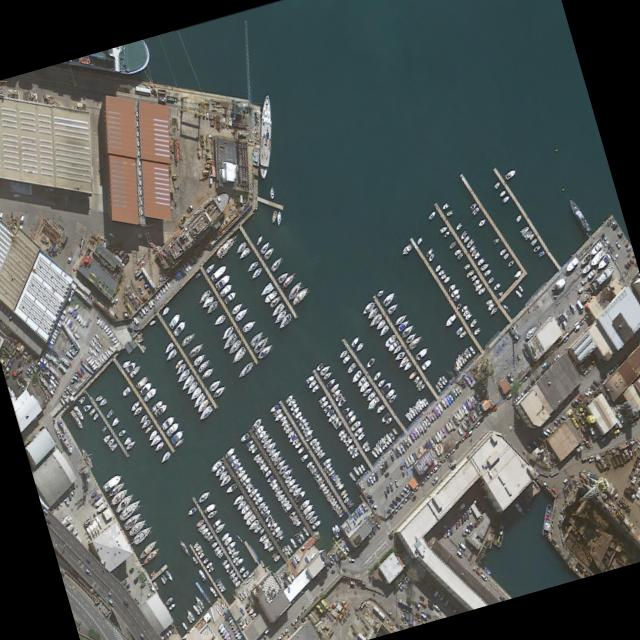large-vehicle: (396, 596, 411, 608), (409, 596, 419, 607), (65, 249, 72, 263), (184, 202, 193, 212), (447, 457, 456, 467), (456, 500, 464, 511), (417, 597, 425, 607)
ship: (149, 182, 236, 276), (256, 88, 274, 183), (565, 192, 593, 238), (586, 261, 615, 293), (212, 230, 238, 261), (126, 520, 153, 548), (115, 494, 141, 523), (110, 488, 135, 516), (119, 507, 142, 533), (135, 535, 158, 561), (98, 469, 122, 493), (138, 544, 161, 568), (106, 483, 128, 508), (102, 477, 125, 500), (218, 327, 238, 353), (289, 282, 309, 308), (125, 514, 146, 538), (235, 357, 255, 380), (185, 337, 205, 360), (254, 338, 274, 361), (207, 259, 227, 282), (66, 406, 83, 432), (177, 326, 196, 349), (228, 342, 246, 366), (539, 500, 551, 536), (587, 246, 606, 268), (250, 332, 269, 354), (278, 267, 296, 290), (548, 274, 566, 296), (364, 309, 382, 331), (378, 287, 396, 309), (169, 315, 186, 338), (285, 277, 302, 300), (177, 371, 194, 394), (78, 444, 93, 470), (212, 269, 230, 290), (225, 335, 242, 357), (275, 311, 292, 333), (246, 325, 263, 347), (238, 314, 256, 334), (195, 402, 213, 422), (594, 250, 611, 271), (163, 417, 180, 438), (562, 253, 579, 273), (256, 278, 273, 298), (136, 376, 153, 396), (158, 410, 175, 430), (167, 425, 184, 445), (231, 303, 248, 323), (209, 309, 226, 329), (271, 306, 288, 326), (217, 321, 233, 342), (203, 296, 219, 317), (267, 251, 283, 272), (198, 291, 214, 312), (174, 364, 189, 386), (243, 255, 259, 275), (247, 262, 263, 282), (207, 455, 223, 475), (194, 354, 210, 374), (195, 285, 211, 305), (210, 380, 226, 400), (57, 431, 72, 452), (140, 384, 157, 402), (151, 399, 168, 417), (227, 297, 244, 315), (412, 342, 428, 361), (406, 331, 422, 350), (364, 393, 380, 412), (358, 298, 374, 317), (198, 362, 214, 381), (217, 278, 233, 297), (206, 375, 222, 394), (232, 236, 247, 256), (261, 286, 276, 306), (190, 389, 205, 409), (398, 320, 414, 338), (221, 286, 237, 304), (522, 322, 537, 341), (236, 243, 251, 262), (269, 299, 284, 318), (442, 309, 457, 328), (260, 242, 275, 261), (193, 395, 208, 414), (70, 402, 84, 422), (166, 309, 180, 329), (187, 383, 201, 403), (246, 541, 259, 562), (195, 487, 211, 504), (587, 239, 602, 257), (362, 303, 377, 321), (126, 361, 141, 379), (133, 371, 148, 389), (190, 349, 205, 367), (162, 345, 177, 363), (192, 592, 206, 611), (266, 291, 280, 310), (183, 378, 197, 397), (177, 537, 190, 557), (381, 331, 396, 348), (391, 310, 406, 327), (229, 489, 243, 507), (348, 366, 362, 384), (398, 239, 412, 257), (378, 377, 392, 395), (147, 431, 160, 450), (200, 500, 216, 515), (217, 471, 231, 488), (250, 230, 264, 247), (256, 237, 270, 254), (275, 266, 289, 283), (172, 360, 186, 377), (249, 414, 262, 432), (501, 166, 516, 181), (402, 329, 417, 344), (242, 511, 256, 527), (212, 519, 226, 535), (292, 487, 306, 503), (221, 444, 235, 460), (246, 516, 260, 532), (395, 316, 409, 332), (384, 299, 398, 315), (276, 460, 289, 477), (356, 378, 369, 395), (376, 321, 389, 338), (395, 352, 408, 369), (347, 333, 360, 350), (158, 447, 171, 464), (239, 506, 253, 521), (148, 397, 162, 412), (233, 496, 246, 512), (300, 500, 313, 516), (341, 405, 354, 421), (317, 360, 330, 376), (348, 416, 361, 432), (334, 345, 347, 361), (385, 337, 398, 353), (122, 357, 135, 373), (171, 434, 184, 450), (212, 462, 225, 478), (203, 258, 216, 274), (195, 566, 207, 583), (373, 315, 385, 332), (223, 481, 237, 495), (297, 496, 310, 511), (263, 439, 276, 454), (260, 434, 273, 449), (267, 447, 280, 462), (279, 465, 292, 480), (327, 378, 340, 393), (324, 409, 337, 424), (215, 466, 228, 481), (382, 385, 395, 400), (578, 251, 590, 267), (344, 359, 356, 375), (392, 347, 404, 363), (386, 389, 398, 405), (119, 382, 131, 398), (152, 438, 164, 454), (161, 339, 173, 355), (328, 523, 339, 540), (204, 507, 218, 520), (237, 501, 250, 515), (289, 483, 302, 497), (447, 285, 460, 299), (123, 437, 136, 451), (252, 421, 264, 436), (255, 426, 267, 441), (273, 456, 285, 471), (309, 516, 321, 531), (323, 374, 335, 389), (345, 411, 357, 426), (351, 422, 363, 437), (370, 368, 382, 383), (130, 403, 142, 418), (141, 421, 153, 436), (171, 355, 183, 370), (46, 363, 58, 378), (556, 311, 567, 327), (354, 372, 365, 388), (364, 353, 375, 369), (55, 414, 65, 431), (209, 515, 221, 529), (303, 507, 315, 521), (306, 512, 318, 526), (517, 223, 529, 237), (302, 371, 314, 385), (363, 388, 375, 402), (419, 356, 431, 370), (389, 342, 401, 356), (372, 401, 384, 415), (281, 390, 293, 404), (258, 430, 269, 445), (378, 409, 389, 424), (353, 338, 364, 353), (158, 302, 169, 317), (145, 426, 156, 441), (286, 534, 296, 550), (270, 453, 282, 466), (284, 475, 296, 488), (471, 280, 483, 293), (320, 368, 332, 381), (358, 436, 370, 449), (360, 384, 372, 397), (373, 285, 385, 298), (184, 503, 196, 516), (288, 403, 300, 416), (252, 492, 263, 506), (233, 554, 244, 568), (225, 538, 236, 552), (219, 529, 230, 543), (251, 521, 262, 535), (247, 484, 258, 498), (228, 454, 239, 468), (584, 266, 595, 280), (579, 261, 590, 275), (335, 393, 346, 407), (305, 376, 316, 390), (309, 380, 320, 394), (318, 396, 329, 410), (331, 417, 342, 431), (401, 359, 412, 373), (119, 354, 130, 368), (128, 397, 139, 411), (295, 414, 306, 428), (163, 567, 173, 582), (185, 607, 195, 622), (573, 297, 583, 312), (190, 602, 200, 617), (340, 350, 350, 365), (109, 413, 119, 428), (104, 405, 114, 420), (477, 261, 489, 273), (320, 401, 332, 413), (269, 207, 277, 225), (301, 426, 313, 438), (269, 406, 281, 418), (264, 515, 275, 528), (272, 527, 283, 540), (269, 523, 280, 536), (255, 498, 266, 511), (238, 430, 249, 443), (281, 501, 292, 514), (240, 474, 251, 487), (229, 546, 240, 559), (222, 534, 233, 547), (256, 530, 267, 543), (261, 538, 272, 551), (287, 480, 298, 493), (484, 299, 495, 312), (520, 228, 531, 241), (511, 267, 522, 280), (313, 359, 324, 372), (330, 384, 341, 397), (332, 389, 343, 402), (354, 429, 365, 442), (315, 392, 326, 405), (323, 405, 334, 418), (136, 411, 147, 424), (95, 501, 106, 514), (272, 410, 283, 423), (59, 354, 70, 367), (44, 368, 55, 381), (297, 418, 308, 431), (291, 407, 302, 420), (292, 531, 302, 545), (238, 469, 248, 483), (207, 584, 217, 598), (463, 236, 473, 250), (372, 440, 382, 454), (499, 300, 509, 314), (375, 375, 385, 389), (455, 351, 465, 365), (300, 523, 309, 538), (260, 507, 271, 519), (232, 463, 243, 475), (234, 466, 245, 478), (230, 459, 241, 471), (265, 445, 276, 457), (281, 472, 292, 484), (474, 255, 485, 267), (475, 284, 486, 296), (346, 443, 357, 455), (382, 414, 393, 426), (121, 434, 132, 446), (96, 395, 107, 407), (267, 402, 279, 413), (297, 451, 308, 463), (288, 435, 299, 447), (320, 460, 331, 472), (250, 489, 260, 502), (236, 561, 246, 574), (453, 323, 463, 336), (423, 246, 433, 259), (382, 430, 392, 443), (426, 208, 436, 221), (329, 413, 339, 426), (406, 367, 416, 380), (86, 405, 96, 418), (139, 417, 149, 430), (579, 290, 589, 303), (412, 399, 422, 412), (466, 343, 476, 356), (284, 541, 293, 555), (296, 528, 305, 542), (346, 469, 355, 483), (406, 404, 415, 418), (462, 344, 471, 358), (426, 435, 435, 449), (462, 372, 471, 386), (272, 487, 283, 498), (464, 267, 475, 278), (458, 302, 469, 313), (475, 216, 486, 227), (499, 193, 510, 204), (107, 440, 118, 451), (195, 521, 206, 532), (193, 516, 204, 527), (320, 455, 331, 466), (286, 508, 296, 520), (258, 503, 268, 515), (275, 490, 285, 502), (279, 498, 289, 510), (230, 552, 240, 564), (226, 451, 236, 463), (163, 594, 173, 606), (445, 281, 455, 293), (481, 266, 491, 278), (446, 238, 456, 250), (496, 245, 506, 257), (469, 204, 479, 216), (339, 402, 349, 414), (342, 436, 352, 448), (335, 425, 345, 437), (337, 429, 347, 441), (410, 372, 420, 384), (100, 431, 110, 443), (318, 482, 328, 494), (316, 479, 326, 491), (286, 431, 296, 443), (287, 400, 297, 412), (293, 412, 303, 424), (245, 481, 254, 494), (471, 248, 480, 261), (351, 464, 360, 477), (467, 316, 476, 329), (193, 600, 202, 613), (378, 435, 387, 448), (380, 432, 389, 445), (415, 396, 424, 409), (331, 521, 340, 534), (454, 355, 463, 368), (396, 440, 405, 453), (438, 396, 447, 409), (432, 403, 441, 416), (430, 405, 439, 418), (447, 416, 456, 429), (458, 227, 466, 241), (376, 437, 384, 451), (460, 402, 468, 416), (275, 532, 285, 543), (262, 467, 272, 478), (265, 543, 275, 554), (271, 552, 281, 563), (482, 296, 492, 307), (466, 199, 476, 210), (344, 440, 354, 451), (415, 381, 425, 392), (115, 426, 125, 437), (93, 496, 103, 507), (198, 525, 208, 536), (307, 435, 317, 446), (309, 439, 319, 450), (303, 431, 313, 442), (285, 396, 295, 407), (35, 359, 45, 370), (38, 356, 48, 367), (323, 464, 333, 475), (300, 422, 310, 433), (93, 514, 102, 526), (189, 553, 198, 565), (240, 566, 249, 578), (432, 261, 441, 273), (488, 304, 497, 316), (460, 306, 469, 318), (559, 308, 568, 320), (179, 619, 188, 631), (528, 235, 537, 247), (505, 256, 514, 268), (500, 249, 509, 261), (512, 287, 521, 299), (90, 410, 99, 422), (105, 436, 114, 448), (275, 209, 281, 227), (58, 390, 67, 402), (64, 383, 73, 395), (89, 522, 98, 534), (86, 524, 95, 536), (368, 447, 377, 459), (313, 445, 322, 457), (402, 410, 411, 422), (434, 377, 443, 389), (370, 444, 379, 456), (278, 416, 287, 428), (422, 415, 431, 427), (393, 444, 402, 456), (411, 424, 420, 436), (47, 376, 56, 388), (331, 474, 340, 486), (464, 369, 473, 381), (472, 389, 481, 401), (282, 543, 290, 556), (567, 299, 575, 312), (91, 518, 99, 531), (458, 350, 466, 363), (432, 380, 440, 393), (418, 418, 426, 431), (403, 432, 411, 445), (404, 454, 412, 467), (409, 449, 417, 462), (406, 451, 414, 464), (431, 431, 439, 444), (441, 394, 449, 407), (434, 429, 442, 442), (469, 392, 477, 405), (466, 395, 474, 408), (464, 397, 472, 410), (453, 409, 461, 422), (451, 411, 459, 424), (444, 418, 452, 431), (457, 329, 467, 339), (437, 271, 447, 281), (493, 289, 503, 299), (470, 276, 480, 286), (81, 402, 91, 412), (263, 512, 272, 523), (268, 520, 277, 531), (242, 479, 251, 490), (255, 456, 264, 467), (264, 472, 273, 483), (251, 451, 260, 462), (246, 441, 255, 452), (244, 437, 253, 448), (260, 463, 269, 474), (267, 476, 276, 487), (277, 494, 286, 505), (471, 325, 480, 336), (462, 310, 471, 321), (491, 280, 500, 291), (454, 250, 463, 261), (451, 291, 460, 302), (531, 243, 540, 254), (340, 432, 349, 443), (413, 377, 422, 388), (76, 394, 85, 405), (92, 393, 103, 402), (229, 573, 238, 584), (210, 542, 219, 553), (157, 574, 166, 585), (316, 449, 325, 460), (311, 442, 320, 453), (436, 375, 445, 386), (313, 473, 322, 484), (311, 470, 320, 481), (292, 439, 301, 450), (48, 353, 57, 364), (56, 361, 65, 372), (335, 480, 344, 491), (329, 471, 338, 482), (85, 525, 92, 539), (467, 242, 475, 254), (461, 232, 469, 244), (386, 429, 394, 441), (453, 220, 461, 232), (440, 200, 448, 212), (505, 370, 513, 382), (411, 402, 419, 414), (405, 408, 413, 420), (452, 358, 460, 370), (321, 485, 329, 497), (295, 443, 303, 455), (424, 411, 432, 423), (416, 421, 424, 433), (470, 409, 478, 421), (399, 438, 407, 450), (401, 436, 409, 448), (409, 427, 417, 439), (402, 457, 410, 469), (467, 411, 475, 423), (474, 404, 482, 416), (443, 392, 451, 404), (436, 427, 444, 439), (449, 385, 457, 397), (447, 387, 455, 399), (455, 407, 463, 419), (442, 421, 450, 433), (289, 512, 298, 522), (269, 481, 278, 491), (253, 453, 262, 463), (166, 601, 175, 611), (441, 274, 450, 284), (435, 267, 444, 277), (461, 261, 470, 271), (452, 247, 461, 257), (444, 208, 453, 218), (578, 275, 587, 285), (437, 224, 447, 233), (536, 248, 545, 258), (490, 235, 499, 245), (349, 449, 358, 459), (208, 539, 217, 549), (204, 532, 213, 542), (201, 529, 210, 539), (335, 509, 344, 519), (203, 559, 212, 569), (315, 476, 324, 486), (308, 465, 317, 475), (276, 413, 285, 423), (280, 420, 289, 430), (282, 424, 291, 434), (325, 467, 334, 477), (257, 460, 265, 471), (468, 246, 476, 257), (389, 425, 397, 436), (184, 614, 192, 625), (441, 228, 449, 239), (514, 212, 522, 223), (492, 179, 500, 190), (227, 569, 235, 580), (219, 556, 227, 567), (213, 546, 221, 557), (409, 404, 417, 415), (460, 348, 468, 359), (439, 372, 447, 383), (285, 427, 293, 438), (463, 415, 471, 426), (459, 420, 467, 431), (428, 409, 436, 420), (428, 433, 436, 444), (438, 425, 446, 436), (268, 185, 274, 199), (151, 579, 158, 591), (458, 405, 465, 417), (485, 275, 494, 284), (194, 546, 203, 555), (293, 518, 301, 528), (249, 444, 257, 454), (468, 272, 476, 282), (575, 284, 583, 294), (526, 231, 534, 241), (497, 188, 505, 198), (362, 443, 370, 453), (482, 564, 490, 574), (232, 578, 240, 588), (330, 500, 338, 510), (218, 583, 226, 593), (190, 538, 198, 548), (329, 497, 337, 507), (325, 492, 333, 502), (323, 489, 331, 499), (306, 461, 314, 471), (43, 350, 51, 360), (45, 384, 53, 394), (339, 489, 347, 499), (337, 486, 345, 496), (333, 478, 341, 488), (427, 249, 433, 262), (415, 234, 422, 245), (358, 461, 365, 472), (355, 463, 362, 474), (516, 282, 523, 293), (451, 362, 458, 373), (418, 396, 425, 407), (421, 394, 428, 405), (414, 423, 421, 434), (435, 401, 442, 412), (454, 383, 461, 394), (291, 516, 299, 525), (272, 484, 280, 493), (222, 561, 230, 570), (200, 555, 208, 564), (332, 504, 340, 513), (205, 564, 213, 573), (193, 542, 201, 551), (304, 459, 312, 468), (346, 500, 354, 509), (454, 300, 461, 310), (57, 394, 64, 404), (226, 566, 233, 576), (216, 549, 223, 559), (327, 495, 334, 505), (455, 426, 462, 436), (421, 418, 428, 428), (427, 411, 434, 421), (408, 431, 415, 441), (446, 391, 453, 401), (52, 423, 58, 434), (196, 550, 204, 558), (214, 578, 222, 586), (334, 507, 342, 515), (47, 381, 54, 390), (344, 496, 351, 505), (342, 495, 349, 504), (160, 572, 166, 582), (453, 385, 459, 395), (216, 581, 223, 589), (55, 497, 61, 506)
small-vehicle: (37, 374, 48, 386), (429, 473, 437, 485), (330, 550, 338, 561), (571, 321, 579, 331), (418, 610, 426, 620), (135, 282, 142, 293), (106, 597, 114, 606), (479, 571, 486, 581), (457, 539, 464, 549), (561, 333, 568, 343), (17, 212, 23, 223), (539, 359, 546, 368), (455, 548, 462, 557), (520, 373, 527, 382), (504, 390, 511, 399), (512, 410, 519, 419), (24, 365, 31, 374), (138, 631, 145, 640), (262, 625, 269, 634), (280, 626, 287, 635), (290, 616, 297, 625), (611, 361, 618, 369), (530, 438, 537, 446), (473, 566, 480, 574), (401, 485, 408, 493), (610, 222, 617, 230), (443, 450, 450, 458), (83, 567, 90, 575), (432, 602, 439, 610), (397, 579, 404, 587), (549, 485, 556, 493), (425, 596, 432, 604), (426, 601, 433, 609), (439, 454, 445, 463), (613, 239, 619, 248), (442, 597, 448, 606), (369, 471, 375, 480), (382, 487, 387, 497), (541, 429, 548, 436), (624, 243, 631, 250), (622, 240, 629, 247), (615, 229, 622, 236), (105, 590, 112, 597), (517, 389, 523, 397), (607, 365, 613, 373), (513, 394, 519, 402), (524, 382, 530, 390), (534, 372, 540, 380), (539, 367, 545, 375), (543, 362, 549, 370), (525, 442, 531, 450), (448, 446, 454, 454), (524, 369, 530, 377), (490, 403, 496, 411), (473, 419, 479, 427), (465, 427, 471, 435), (75, 367, 81, 375), (107, 230, 113, 238), (71, 373, 77, 381), (62, 497, 68, 505), (24, 369, 30, 377), (424, 610, 430, 618), (276, 632, 282, 640), (328, 566, 334, 574), (392, 477, 397, 486), (432, 587, 437, 596), (544, 426, 550, 433), (555, 416, 561, 423), (572, 397, 579, 403), (528, 378, 534, 385), (536, 434, 542, 441), (456, 545, 462, 552), (401, 497, 407, 504), (396, 502, 402, 509), (390, 498, 396, 505), (393, 495, 400, 501), (403, 482, 409, 489), (369, 502, 376, 508), (608, 219, 614, 226), (582, 313, 588, 320), (477, 415, 483, 422), (458, 436, 464, 443), (136, 272, 142, 279), (62, 387, 68, 394), (403, 574, 409, 581), (401, 576, 407, 583), (417, 593, 423, 600), (327, 553, 333, 560), (431, 464, 436, 472), (384, 483, 389, 491), (11, 192, 19, 197), (396, 582, 401, 590), (427, 582, 432, 590), (451, 605, 456, 613), (438, 593, 443, 601), (435, 590, 440, 598), (561, 475, 566, 483), (374, 520, 379, 528), (367, 475, 372, 483), (372, 471, 377, 479), (378, 464, 383, 472), (380, 461, 385, 469), (569, 401, 575, 407), (625, 259, 631, 265), (465, 523, 471, 529), (463, 526, 469, 532), (628, 257, 634, 263), (388, 501, 394, 507), (365, 493, 371, 499), (612, 251, 616, 260), (142, 281, 148, 287), (388, 480, 392, 489), (550, 356, 555, 363), (464, 497, 471, 502), (387, 511, 392, 518), (427, 469, 432, 476), (423, 473, 428, 480), (418, 479, 423, 486), (412, 484, 417, 491), (405, 493, 410, 500), (391, 507, 396, 514), (399, 490, 404, 497), (578, 318, 583, 325), (462, 432, 467, 439), (347, 556, 354, 561), (364, 477, 369, 484), (599, 231, 603, 239), (66, 491, 70, 499), (478, 504, 482, 512), (382, 459, 386, 467), (552, 418, 557, 424), (558, 413, 564, 418), (554, 352, 559, 358), (623, 262, 628, 268), (441, 522, 446, 528), (460, 530, 466, 535), (435, 461, 440, 467), (420, 608, 425, 614), (608, 245, 612, 252), (112, 296, 116, 303), (585, 469, 589, 476), (464, 509, 467, 518), (576, 395, 581, 400), (586, 386, 591, 391), (467, 520, 472, 525), (367, 498, 372, 503), (73, 371, 78, 376), (462, 511, 465, 519), (459, 514, 462, 522), (409, 489, 413, 495), (602, 234, 605, 242), (604, 238, 607, 246), (389, 452, 393, 458), (448, 525, 451, 532), (467, 506, 470, 513), (456, 517, 459, 524), (453, 520, 456, 527), (445, 528, 448, 535), (606, 242, 609, 249), (591, 472, 594, 478), (589, 470, 591, 477), (0, 211, 1, 218)
